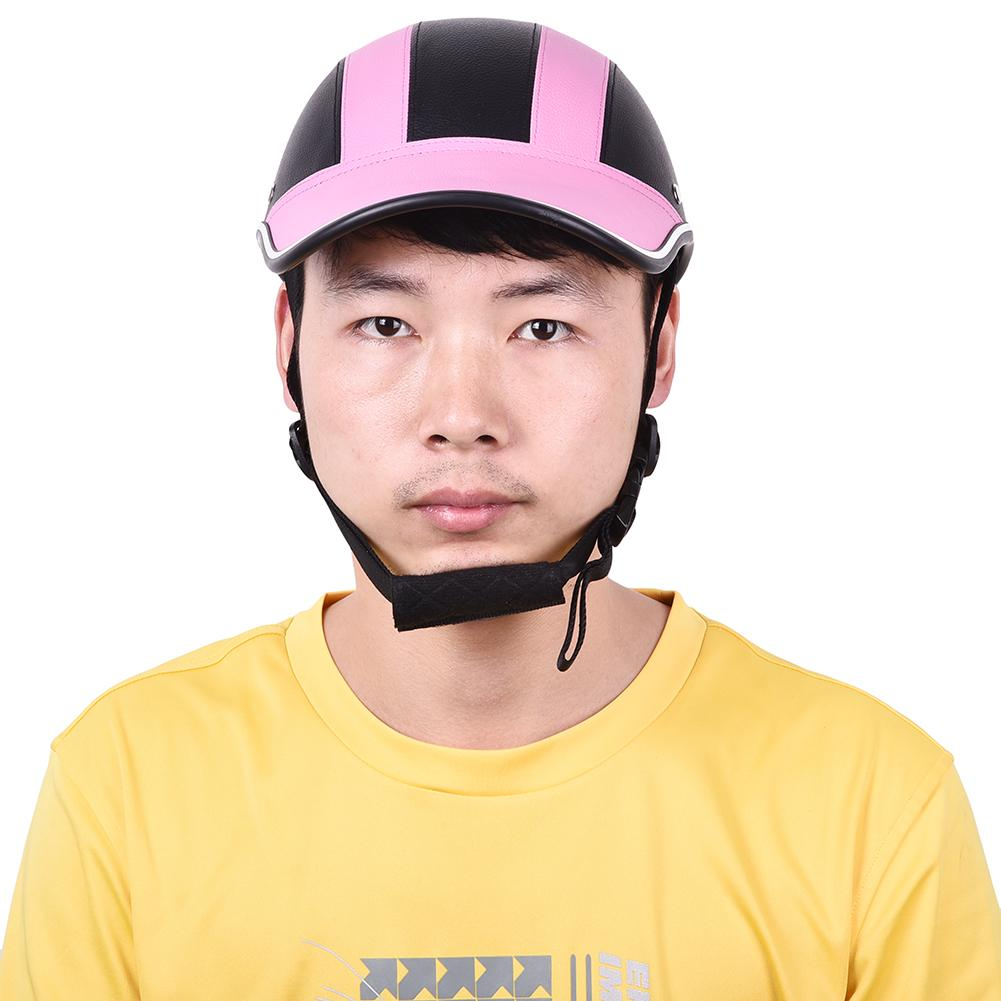Helmet: (258, 10, 697, 301)
